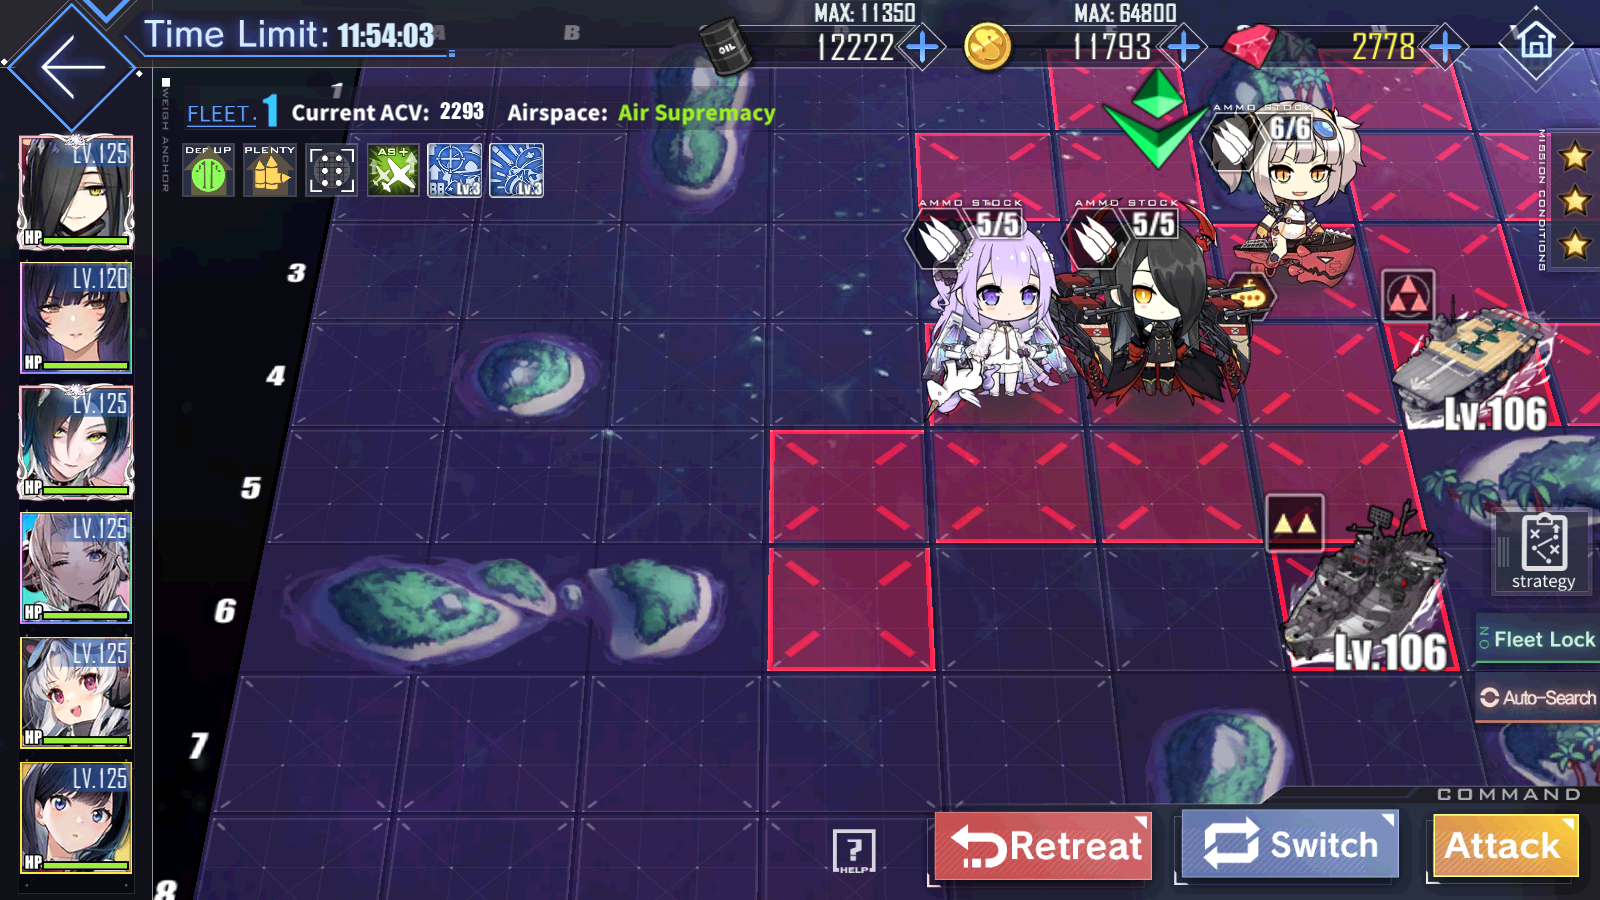ally: (1060, 198, 1251, 426), (903, 199, 1076, 424), (1205, 102, 1363, 292)
enemy: (1266, 495, 1462, 670), (1382, 268, 1560, 430)
